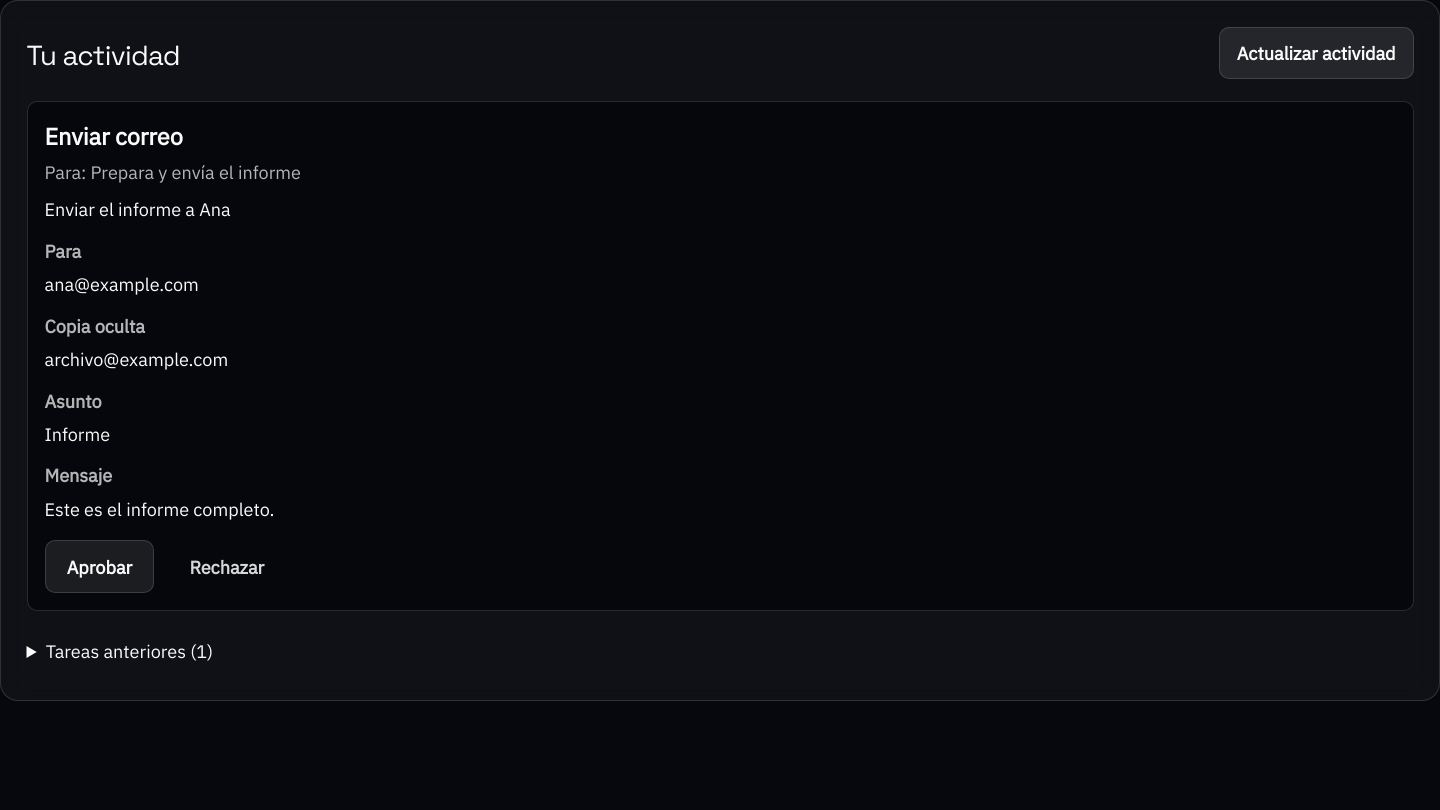
Scenario: Actividad en Inicio › muestra el resultado registrado de una tarea anterior
Click the heading "Tareas anteriores (1)" at (129, 651), box [46,639,213,663]
(page scrolled)
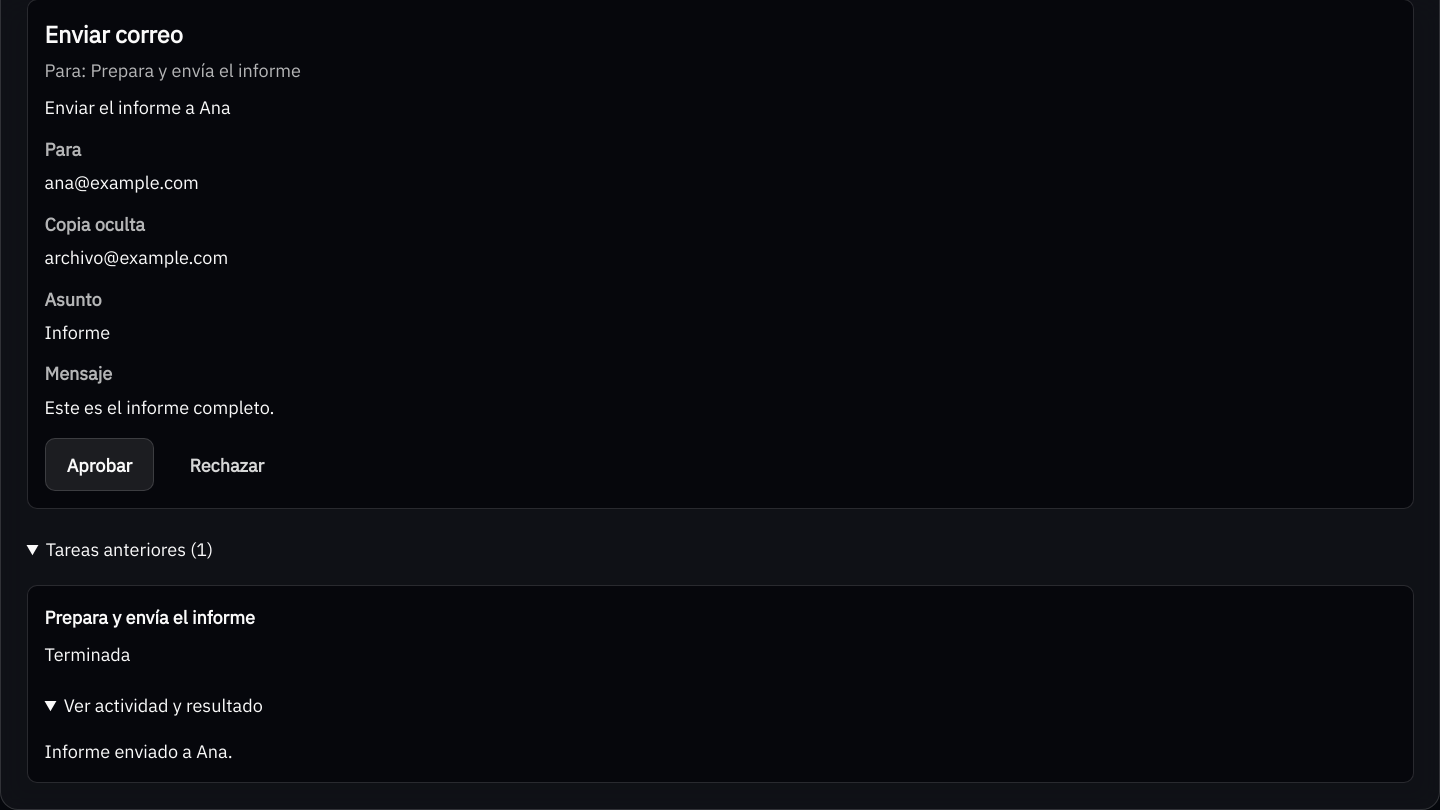
Expected: the list item "Informe enviado a Ana." is shown, [44,738,233,762]
